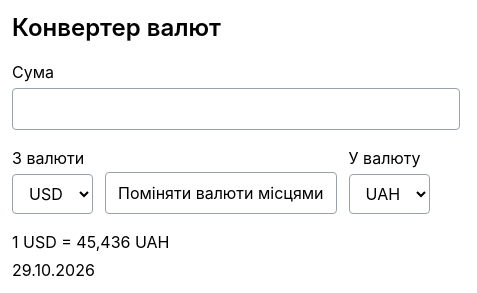
Converter form › swaps the fields when the base is given the quote's currency
Select "UAH" in the dropdown labelled "З валюти": (52, 194) [12, 174, 93, 214]
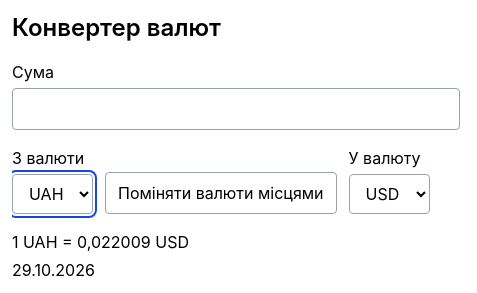
Now the dropdown labelled "У валюту" shows "USD", box [348, 174, 430, 214]
